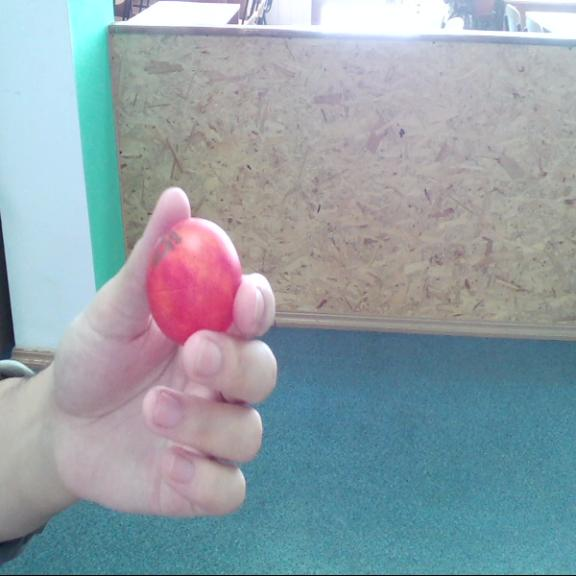ball: (149, 219, 246, 347)
